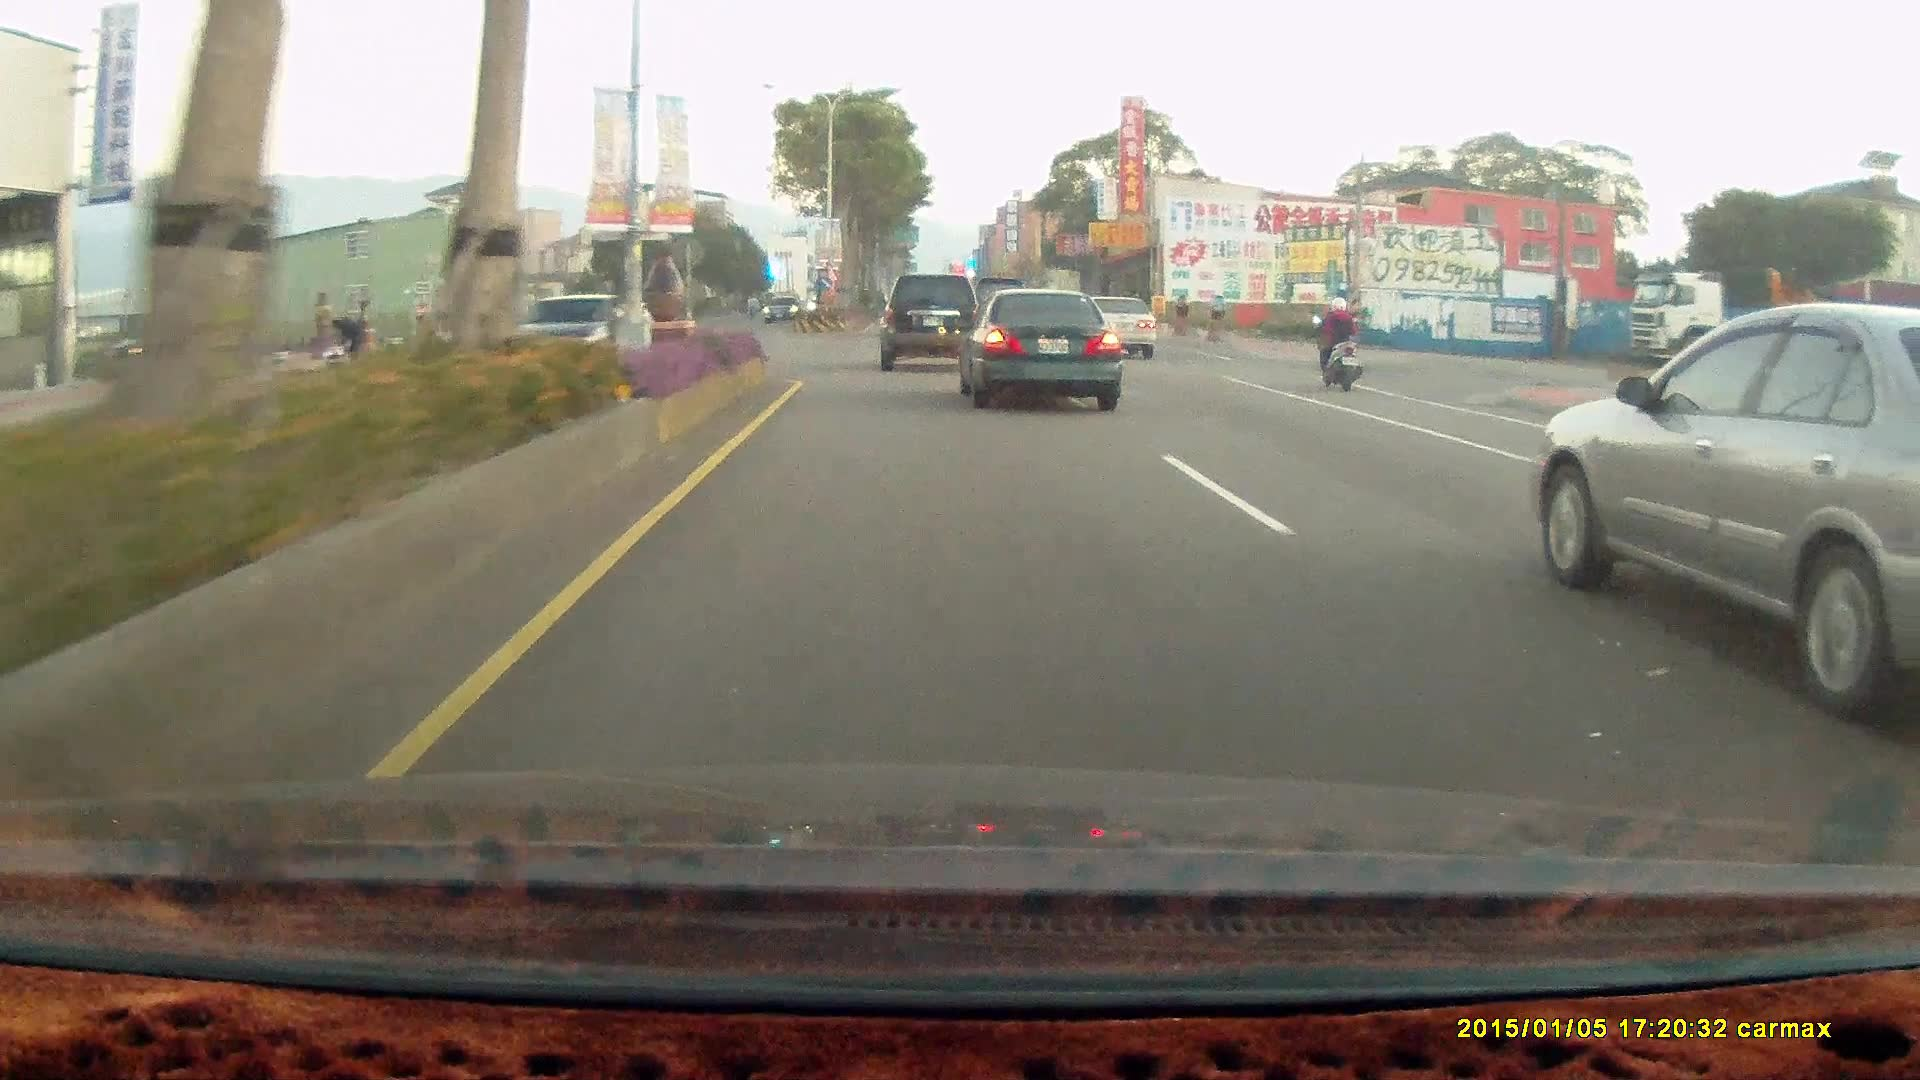pedestrian: (328, 314, 363, 363)
rider: (1303, 287, 1374, 401), (1308, 293, 1364, 390)
vehicle: (1534, 302, 1920, 722), (1626, 271, 1920, 370), (948, 290, 1115, 412), (964, 294, 1128, 415), (509, 288, 635, 375), (880, 274, 987, 374), (514, 290, 628, 377), (879, 273, 981, 369), (94, 311, 211, 382), (1076, 295, 1160, 360), (759, 297, 807, 326), (761, 294, 802, 323)
